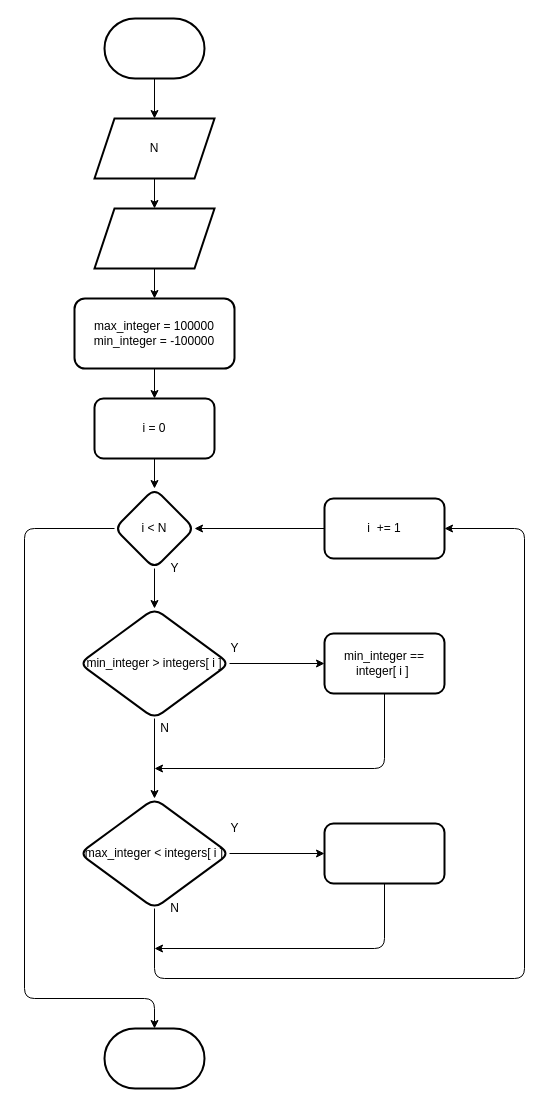
Some shapes in this 550 by 1106 pixel diagram are drawn without their labels. The box of each missing label's shape, as (x1, y1, x2, y2) in pixels:
finish: (103, 1027, 205, 1089)
integers: (93, 207, 215, 269)
max_integer == integer[ i ]: (323, 822, 445, 884)
start: (103, 17, 205, 79)
